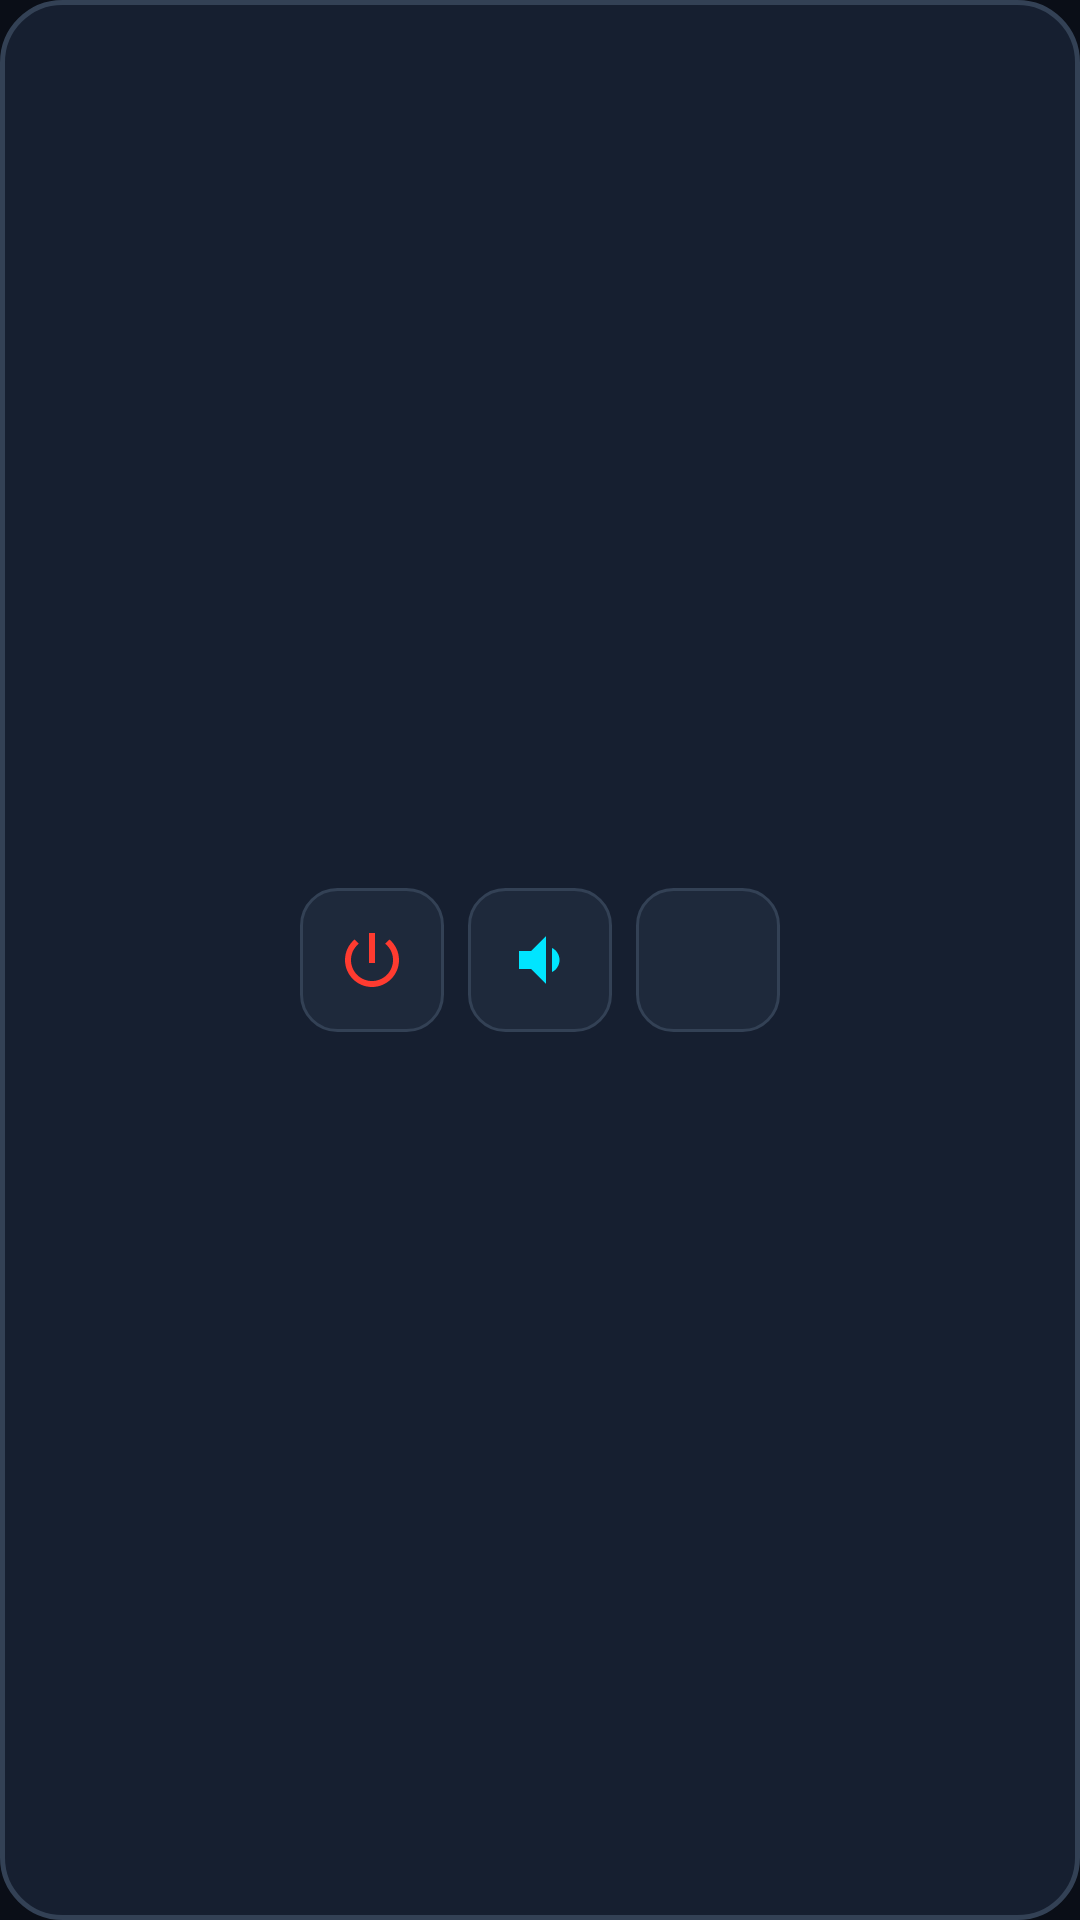

Icons on this 1080px x 1920px Android screen, each with its box as (x1=x1, y1=y1, x2=x2, y2=y2):
Power: (x1=300, y1=888, x2=444, y2=1032)
Vol -: (x1=468, y1=888, x2=612, y2=1032)
